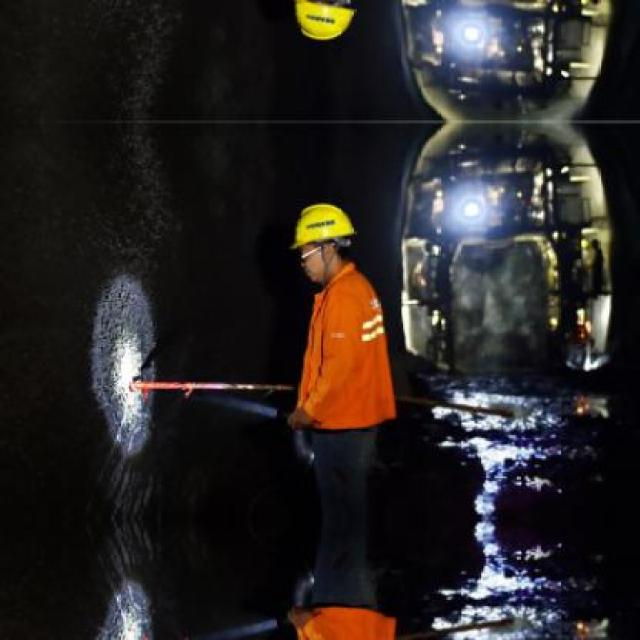helmet: (287, 194, 358, 283), (288, 0, 360, 51)
